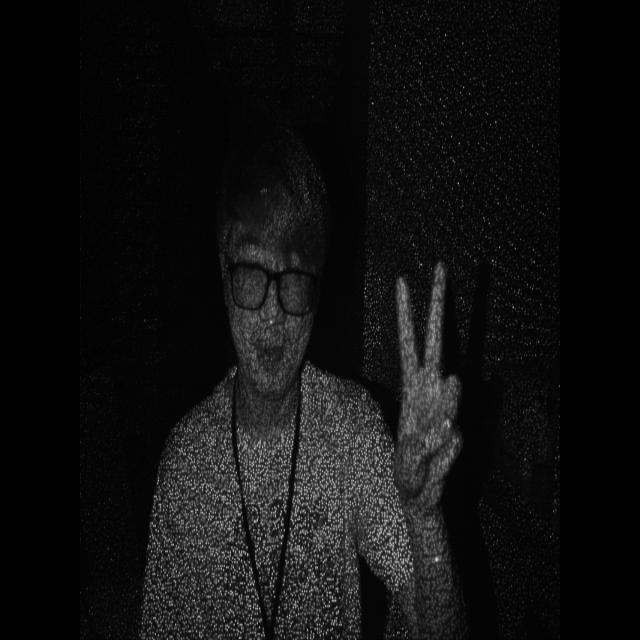V: (376, 241, 472, 519)
